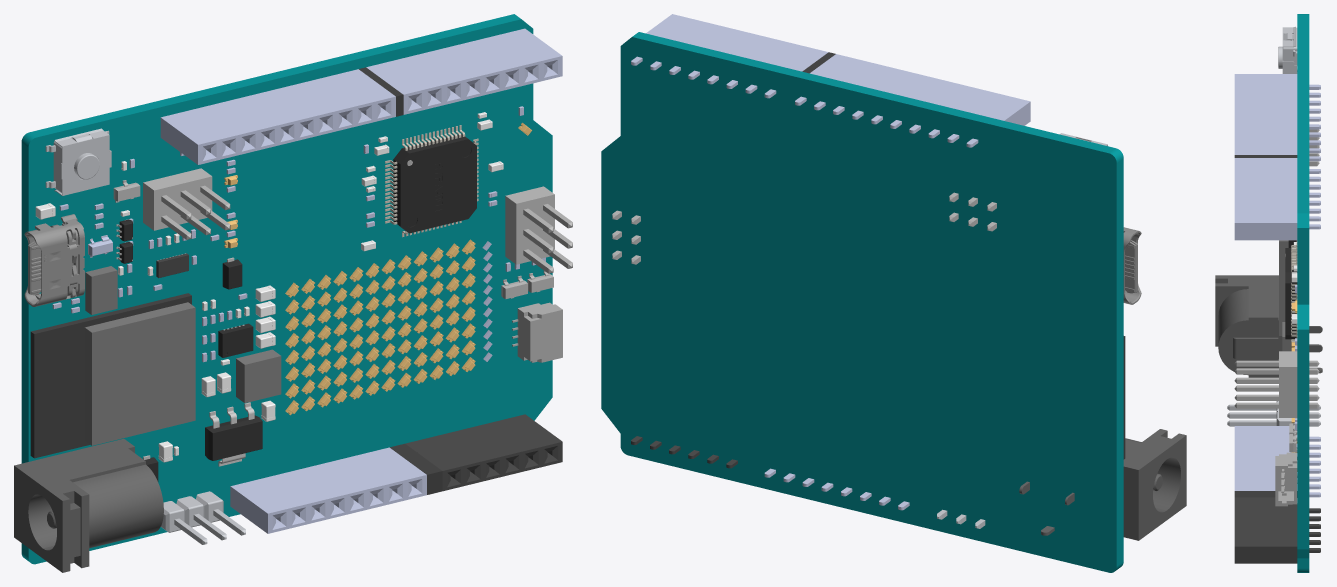
File: uno-r4.glb
3 views of the same model, side by side, from view 1: azimuth 30°, elevation 25°; view 2: azimuth 150°, elevation 25°; view 3: azimuth 270°, elevation 25° (orthographic). The views are drawn at different scales.
Parts seen in each view (by area): view 1: UNO_PCB, 548, UNO_WIFI, 565, 570, 566, UNO_WIFI_PCB, 571, UNO_MCU, CX90B-16P_3D, 556, 333 (+10 smaller); view 2: UNO_PCB, 565, 548, 566, CX90B-16P_3D; view 3: UNO_PCB, 548, 565, 566, 571, 570, 556, 166, 558, UNO_MCU, UNO_WIFI, 319 (+7 smaller).
Part boxes in pixels (x1,y1,x2,y2): UNO_PCB: (21, 14, 552, 564); 548: (14, 438, 163, 572); UNO_WIFI: (84, 302, 195, 445); 565: (160, 69, 395, 164); 570: (230, 447, 426, 533); 566: (366, 28, 562, 114); UNO_WIFI_PCB: (30, 293, 191, 458); 571: (405, 414, 562, 491); UNO_MCU: (393, 134, 476, 233); CX90B-16P_3D: (24, 214, 84, 306); 556: (505, 186, 572, 273); 333: (143, 168, 230, 239); UNO_PCB: (601, 32, 1123, 572); 565: (795, 54, 1030, 147); 548: (1019, 429, 1186, 540); 566: (631, 14, 828, 98); CX90B-16P_3D: (1123, 227, 1141, 304); UNO_PCB: (1297, 14, 1309, 572); 548: (1215, 275, 1322, 377); 565: (1234, 74, 1320, 161); 566: (1234, 158, 1320, 240); 571: (1234, 497, 1320, 563); 570: (1234, 426, 1320, 497); 556: (1234, 351, 1319, 417); 166: (1275, 452, 1297, 506); 558: (1278, 26, 1297, 73); UNO_MCU: (1285, 248, 1297, 339); UNO_WIFI: (1279, 240, 1288, 335); 319: (1227, 412, 1320, 426).
Size of the model in its own units: 0.0705 by 0.0533 by 0.0145.
